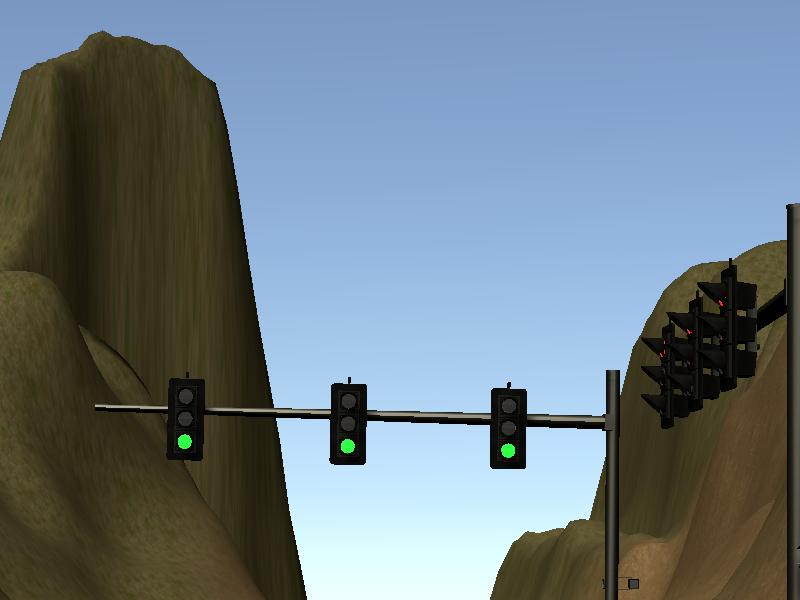green: (167, 377, 206, 461), (329, 383, 368, 467), (489, 387, 528, 471)
